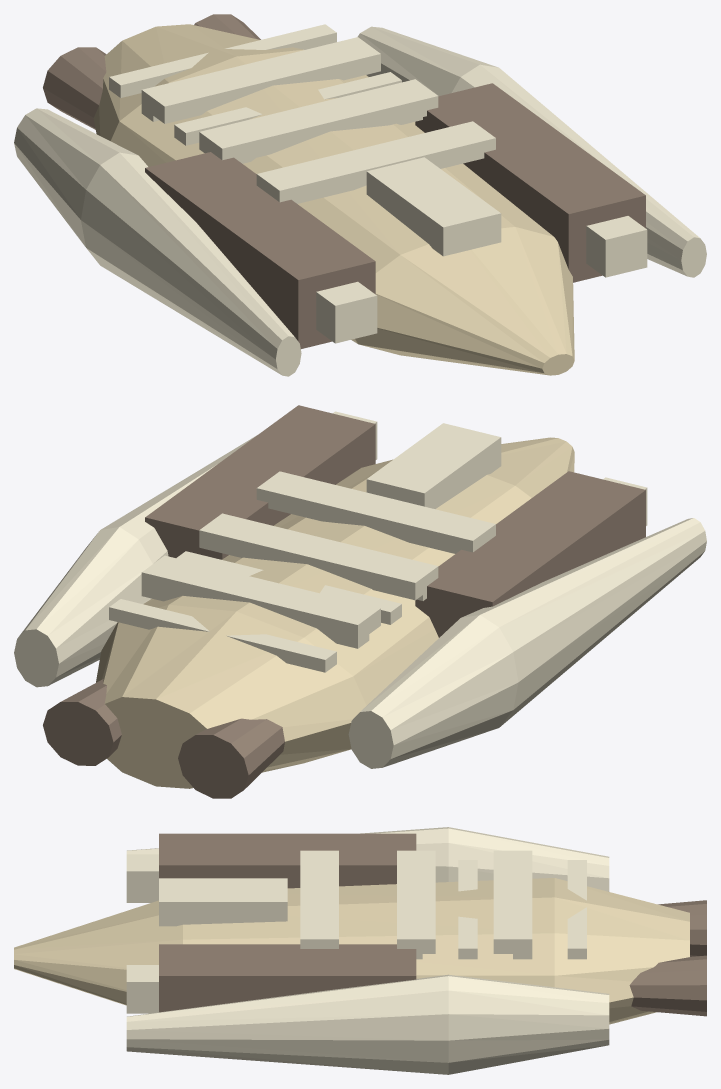
3 renders of one model, top to bottom at view 1: azimuth 30°, elevation 25°; view 2: azimuth 150°, elevation 25°; view 3: azimuth 270°, elevation 25°, orthographic. The views are drawn at different scales.
Size of the model in its own units: 2.56 by 0.8586 by 4.18.
